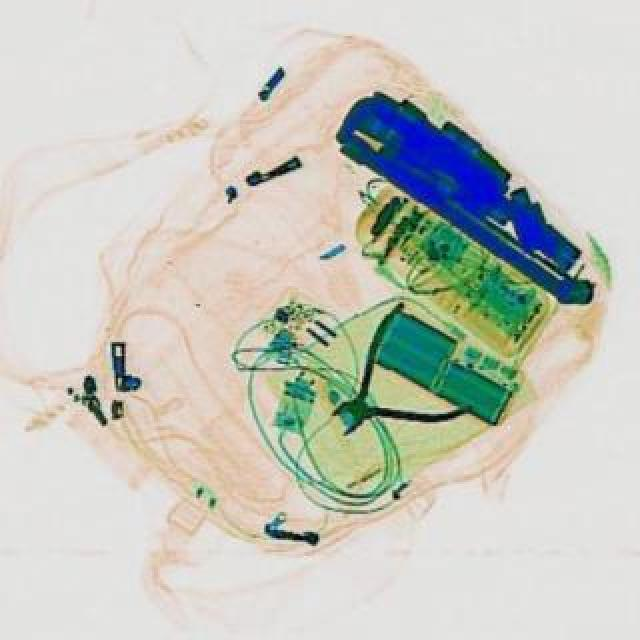wrench: (292, 296, 486, 472)
